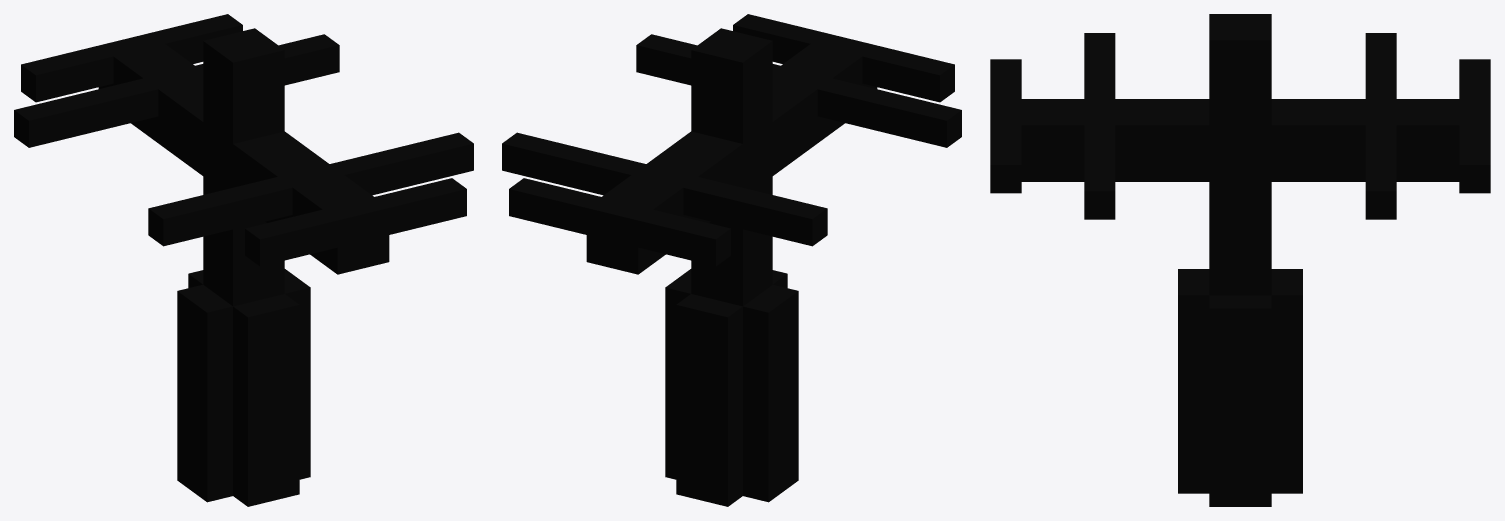
The model's file is spaceantenna3.obj.
3 renders of one model, left to right at view 1: azimuth 30°, elevation 25°; view 2: azimuth 150°, elevation 25°; view 3: azimuth 270°, elevation 25°, orthographic. The views are drawn at different scales.
Bounding box in the file's own units: 1.2 × 1.6 × 1.6.
